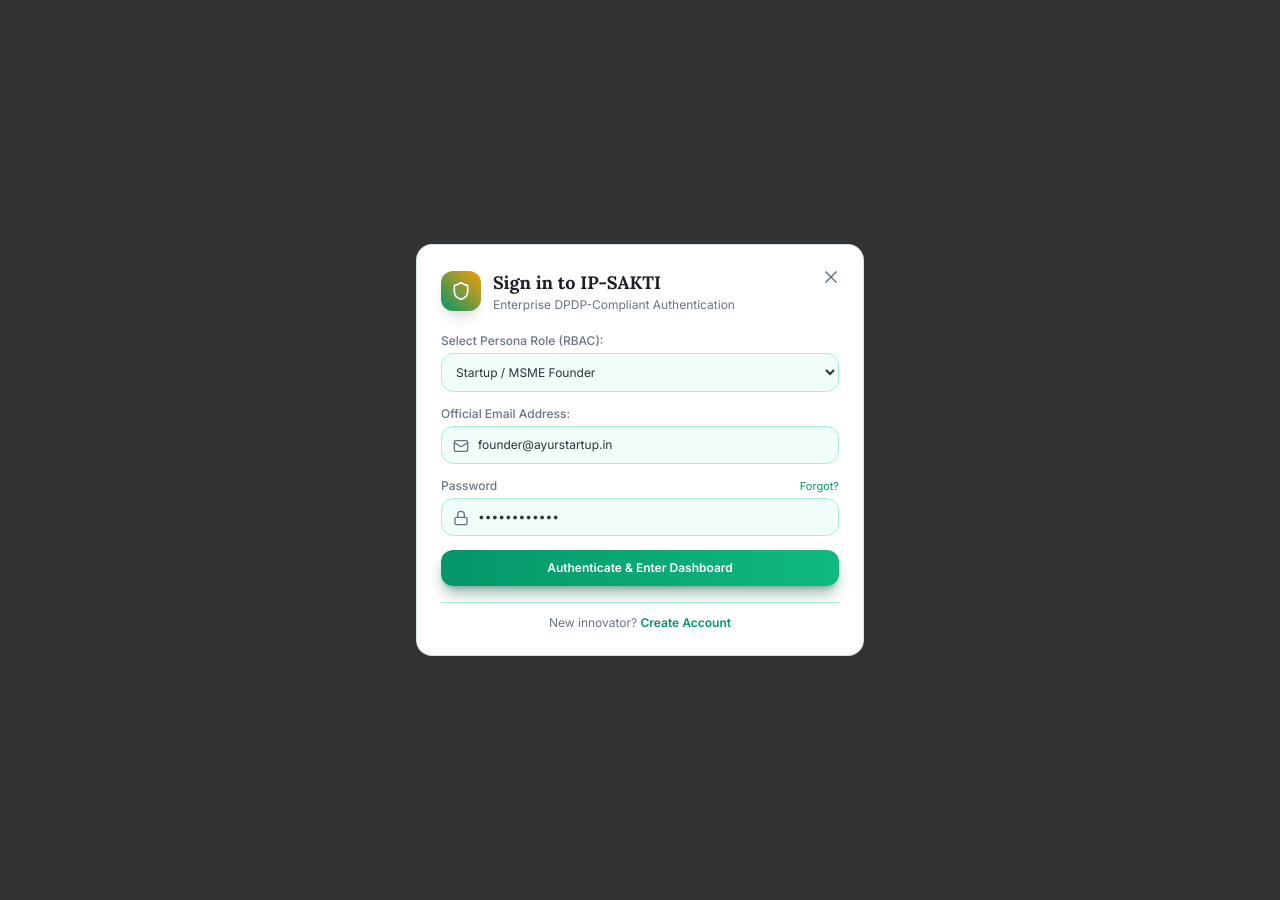
it: AuthModal › forgot mode hides the password field
Expected: the password field is shown, x1=441 y1=498 x2=839 y2=536
Click the button "Forgot?": (819, 486) x1=800 y1=478 x2=839 y2=494
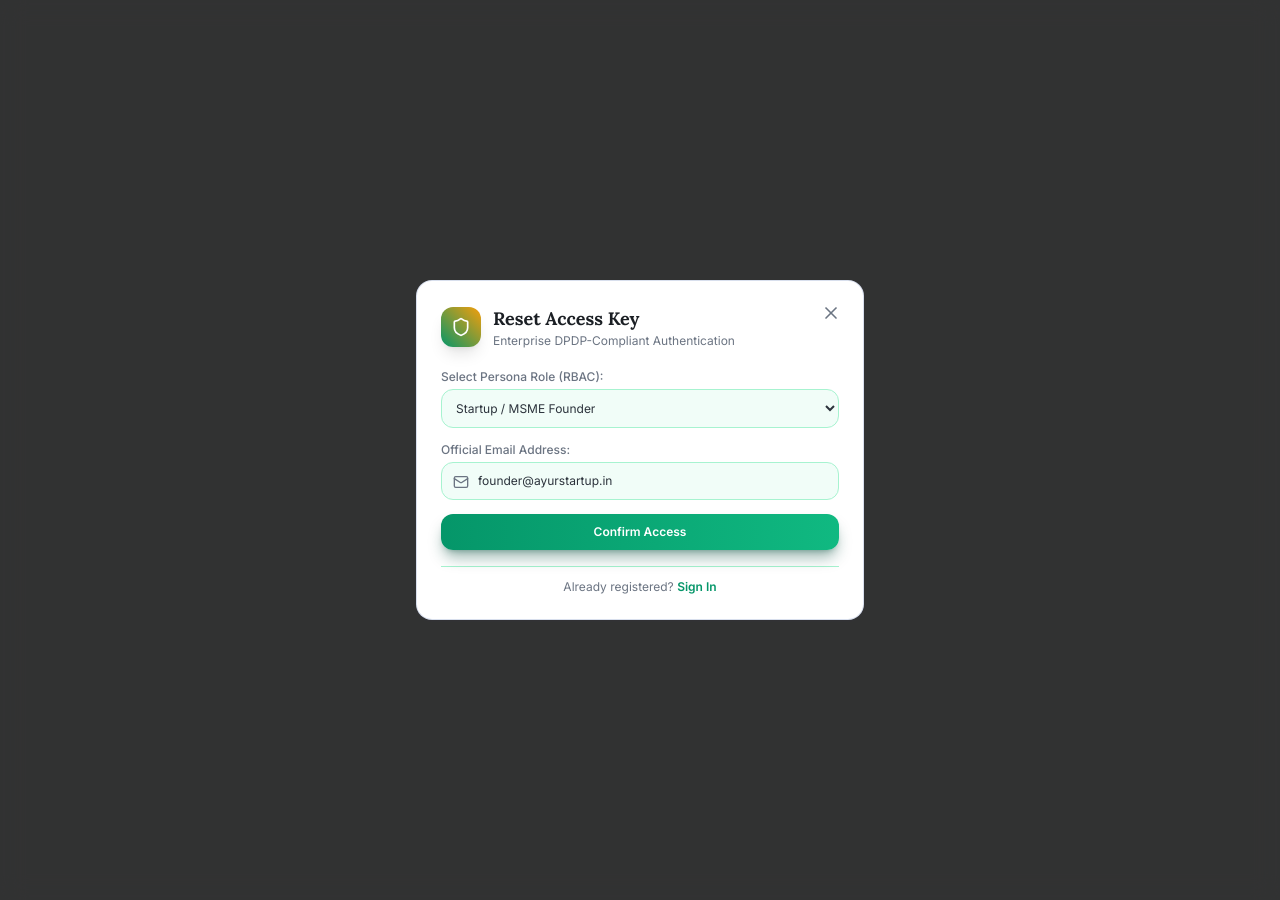
Expected: the heading "Reset Access Key" is shown, x1=493 y1=307 x2=640 y2=330
Expected: the password field is gone
Expected: the button "Confirm Access" is shown, x1=441 y1=514 x2=839 y2=550
